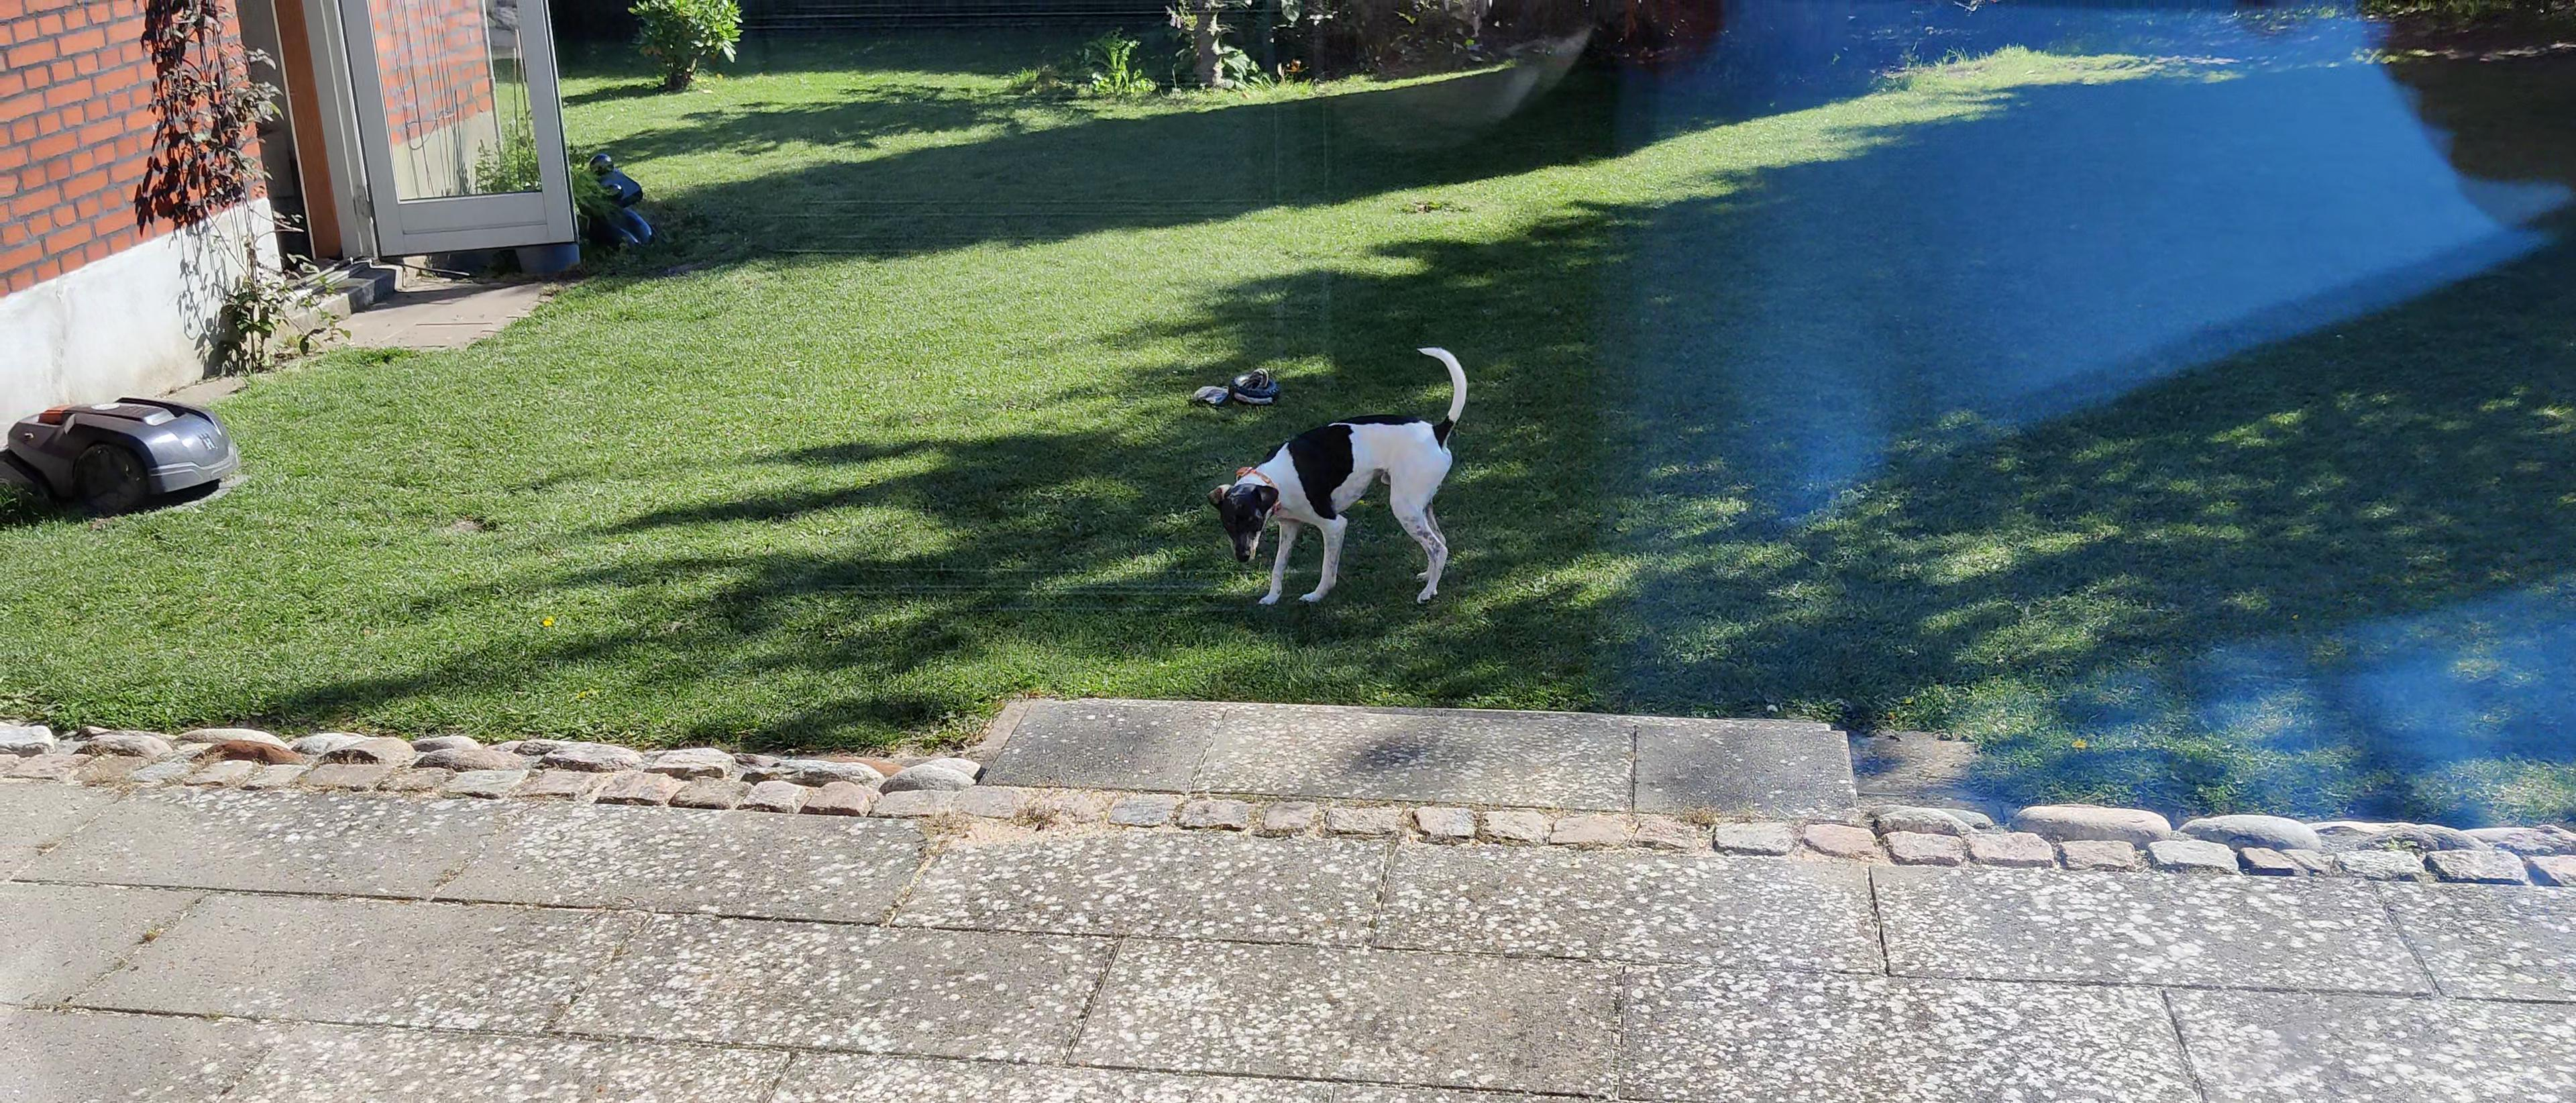Dog: (1201, 342, 1470, 610)
